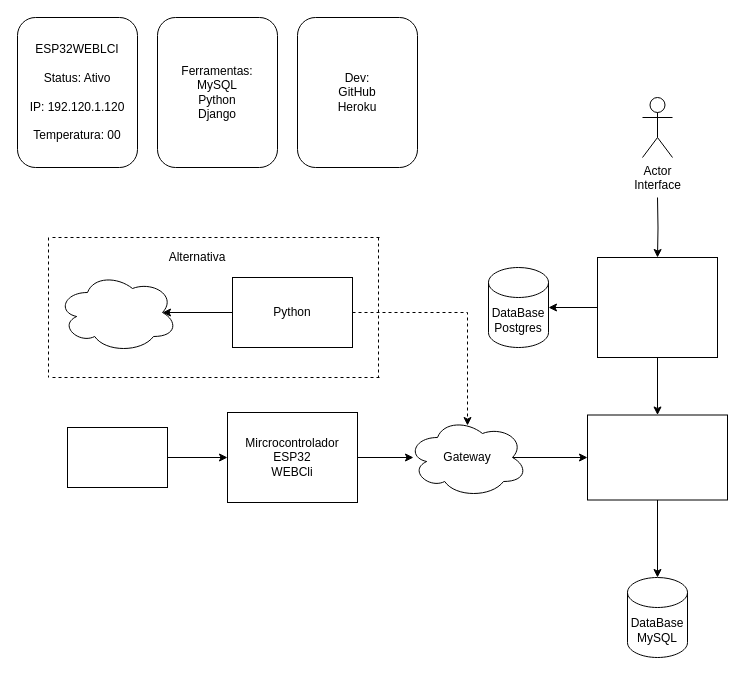
Some shapes in this 745 by 675 pixel diagram are drawn without their labels. The shapes that lost their labels are listed below. From the top down, each one's box as (x1, y1, x2, y2) in pixels, then its label:
(56, 272, 178, 352): Web API de Clima
(596, 256, 718, 358): Web Service (API) Heroku
(66, 426, 168, 488): Sensor de Temperatura
(586, 414, 728, 500): Servidor (API) notebook (Python + Django)
